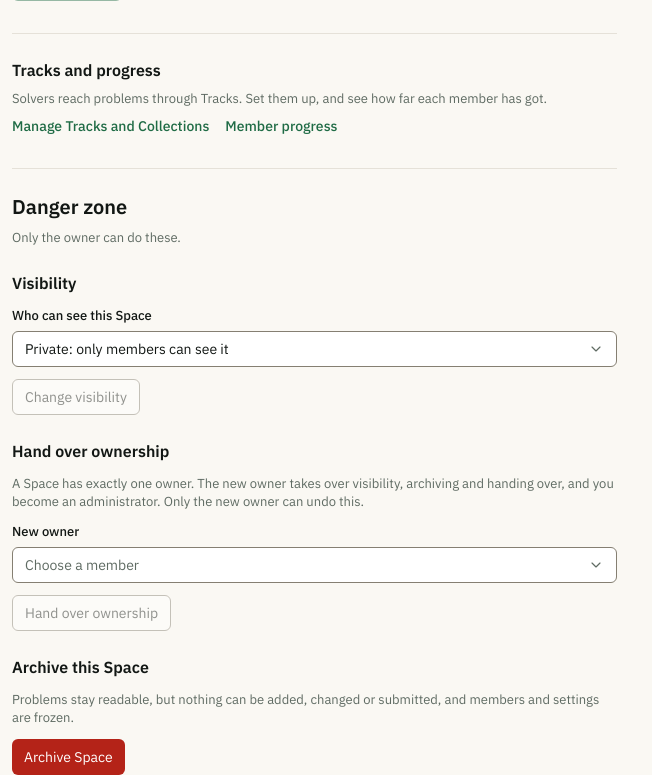
it: SpaceSettings › does not offer yourself as the new owner
(page scrolled)
Click the dropdown named "New owner": [82, 565] box [12, 547, 617, 583]
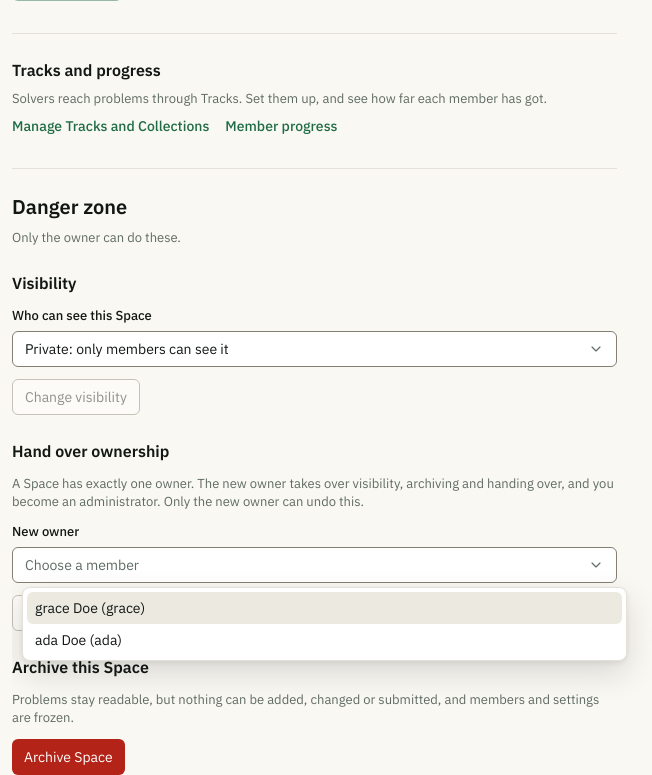
Result: the option "grace Doe (grace)" is shown at [27, 592, 622, 624]
